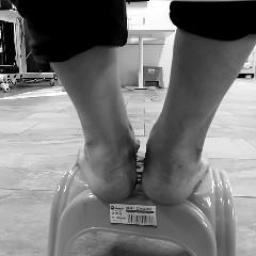Back View -Both Feet-: (61, 98, 224, 221)
